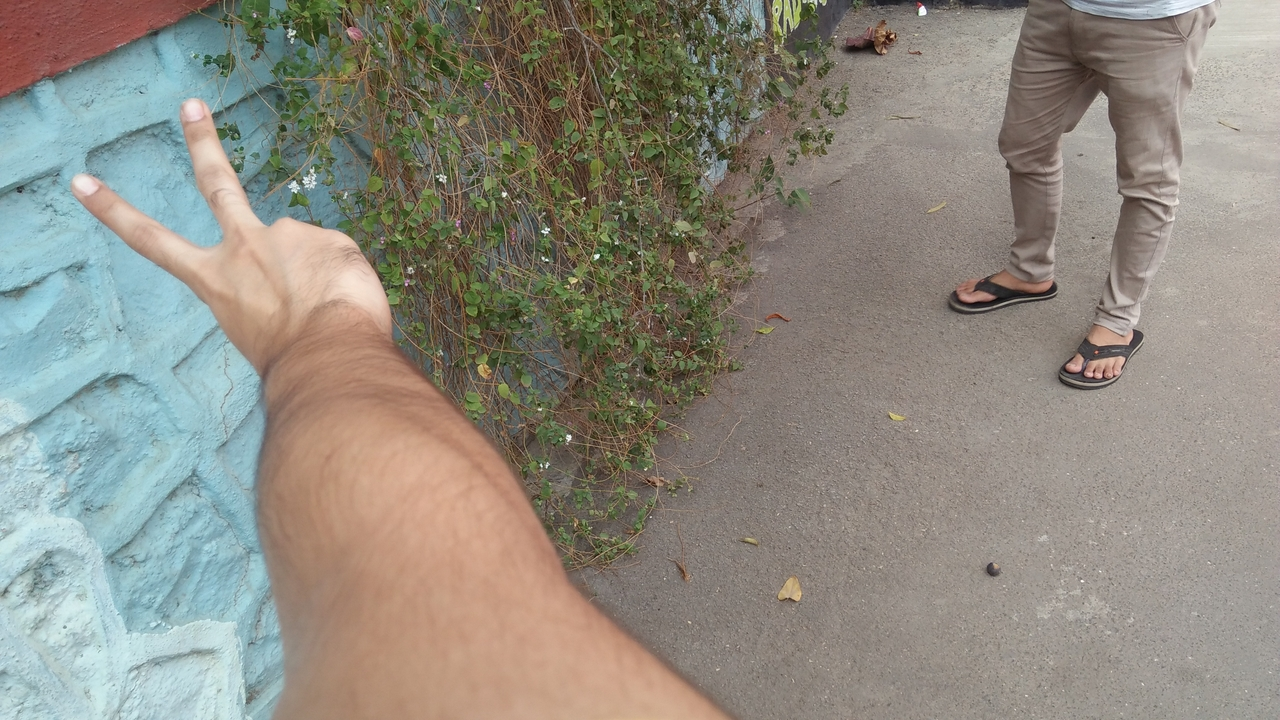fingertip: (164, 84, 214, 132), (60, 164, 111, 205)
